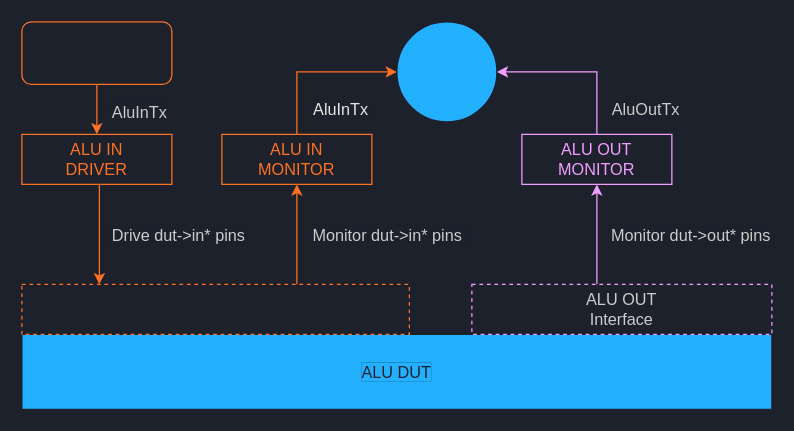
Image size: 794x431. Some labels were removed from this diagram. Each missing label, with the centre of its shape:
"ALU IN Interface" goes at [215,308].
"Random transaction generator" goes at [96,52].
"Scoreboard" goes at [446,71].
